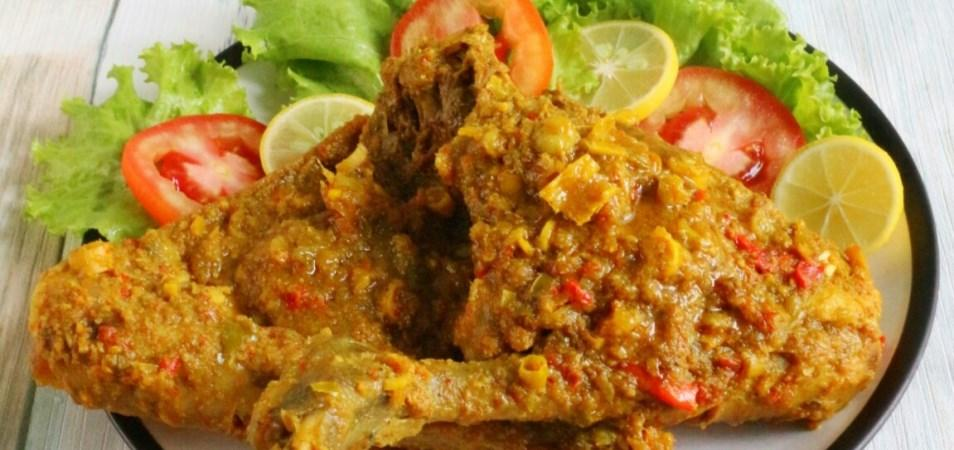ayam_betutu: (28, 26, 890, 450)
